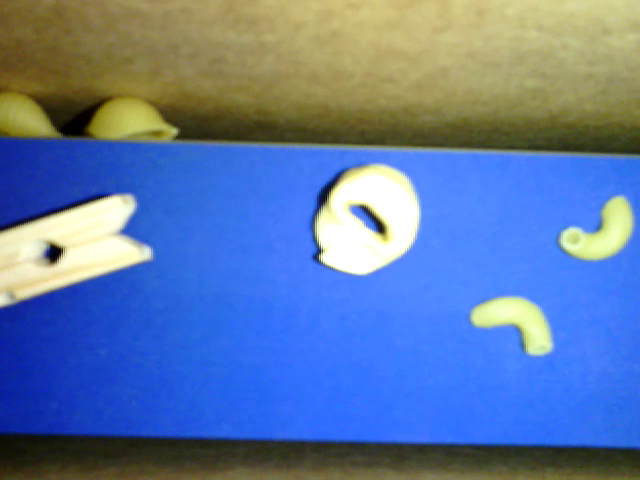elbow: (554, 191, 632, 265), (468, 294, 548, 355)
shell: (84, 97, 180, 140), (1, 89, 67, 138)
tortellini: (310, 161, 423, 276)
